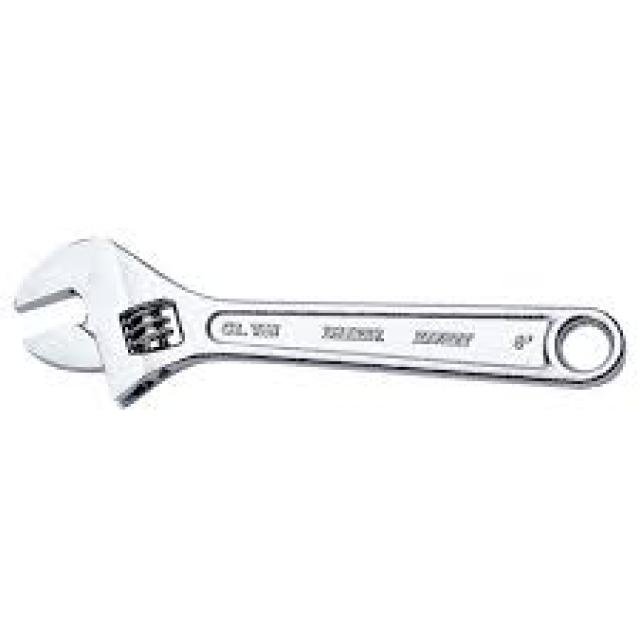wrench: (3, 207, 640, 485)
